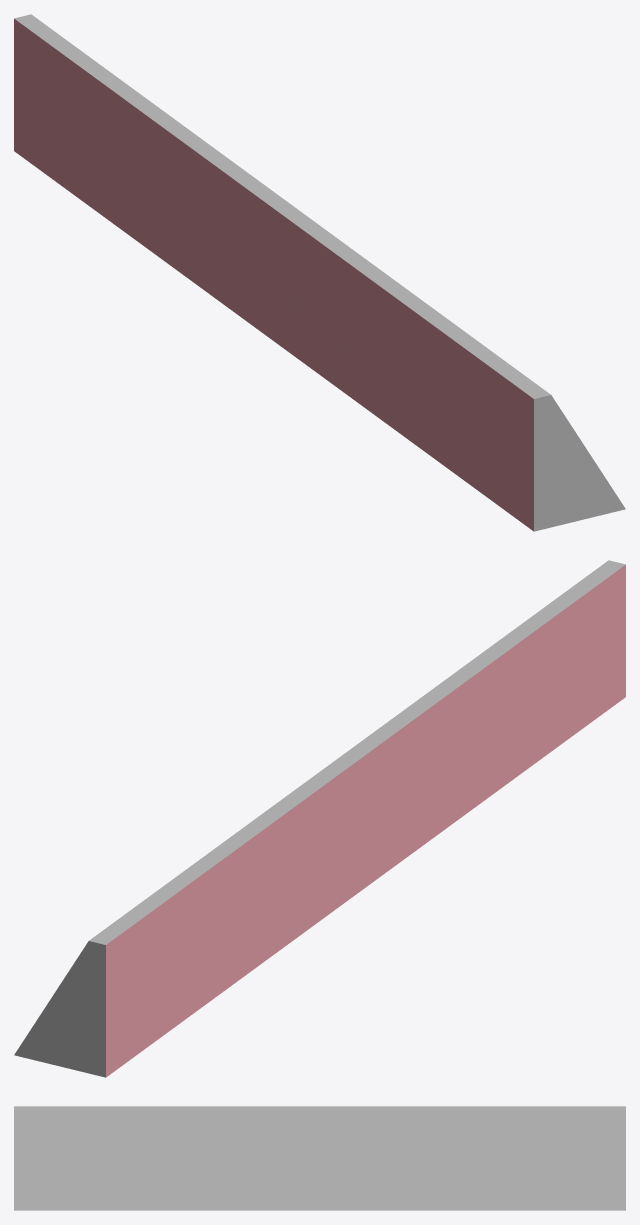
File: wrong_flat.glb
3 renders of one model, top to bottom at view 1: azimuth 30°, elevation 25°; view 2: azimuth 150°, elevation 25°; view 3: azimuth 270°, elevation 25°, orthographic. The views are drawn at different scales.
Visible parts, largest first — view 1: wrong_flat_VIS; view 2: wrong_flat_VIS; view 3: wrong_flat_VIS.
Boxes of the visible parts, bbox=[...] form: wrong_flat_VIS: bbox=[14, 14, 625, 531]; wrong_flat_VIS: bbox=[14, 560, 625, 1077]; wrong_flat_VIS: bbox=[14, 1106, 625, 1210].
Size of what is drawn, in the model's own units: 3.63 by 5 by 35.54.
